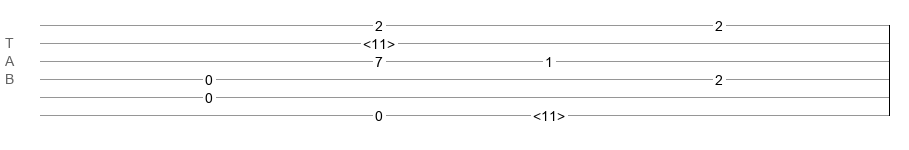0: (205, 90, 213, 100), (205, 72, 213, 82), (375, 108, 383, 118)
1: (545, 54, 553, 64)
2: (375, 18, 383, 28), (715, 72, 723, 82), (715, 18, 723, 28)
7: (375, 54, 383, 64)
harmonic: (363, 36, 395, 46), (533, 108, 565, 118)
